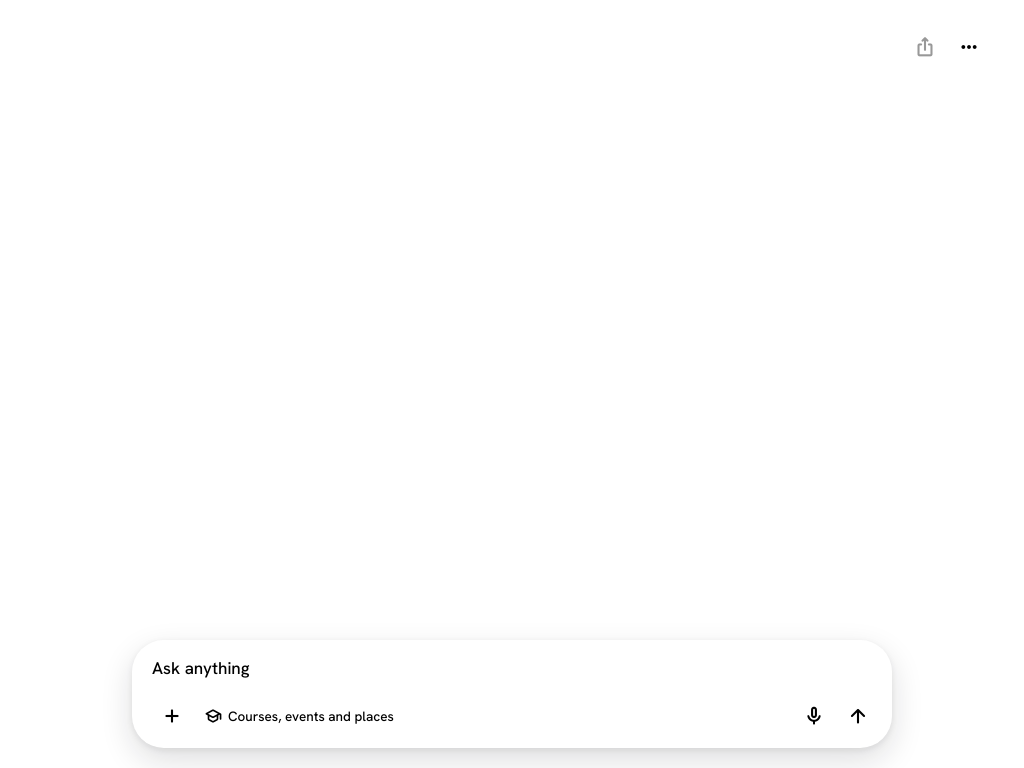
Test case: chat flow (characterization) › sending a message renders the streamed reply
Type "Plan my semester" into the text box named "Message" at point(511, 669), box [152,656,870,682]
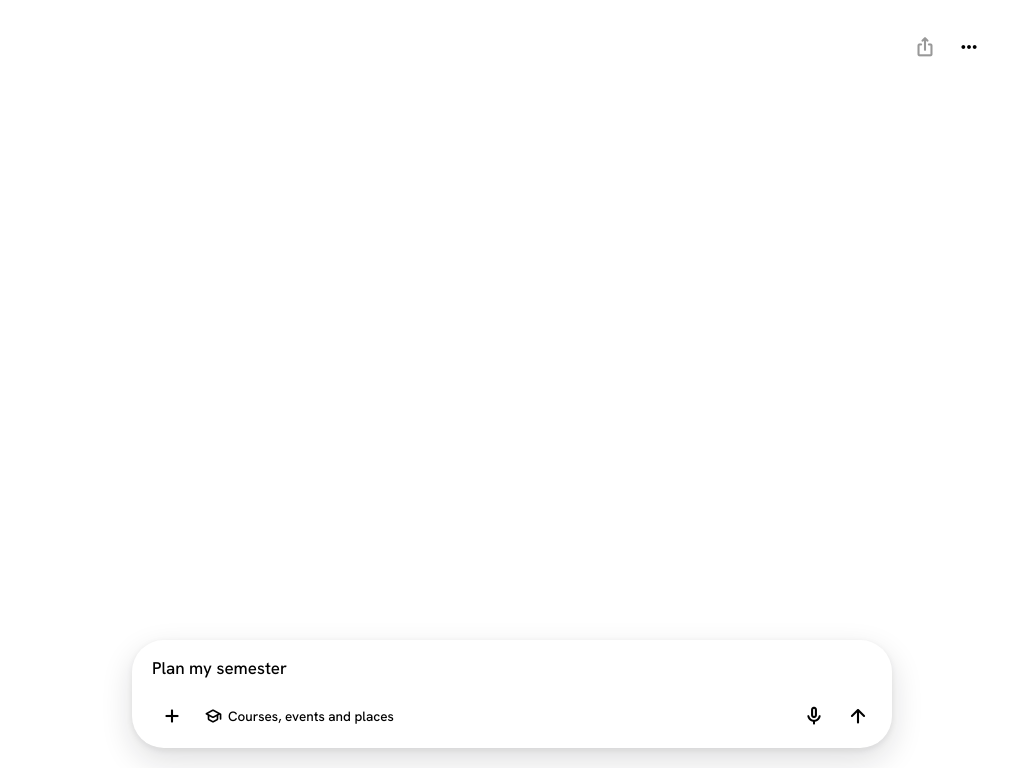
Click the button named "Send" at point(858, 716), box [838,696,878,736]
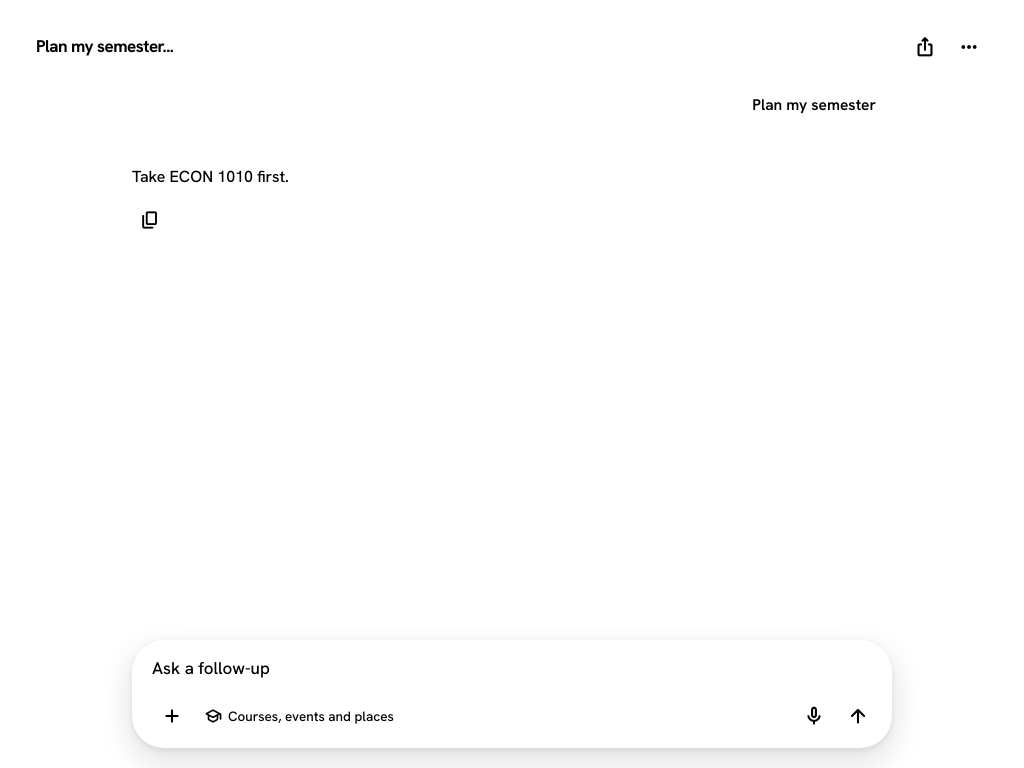
Expected: the text "Take ECON 1010 first." is shown, [132,166,289,188]
Expected: the text "Plan my semester" is shown, [752,94,876,116]
